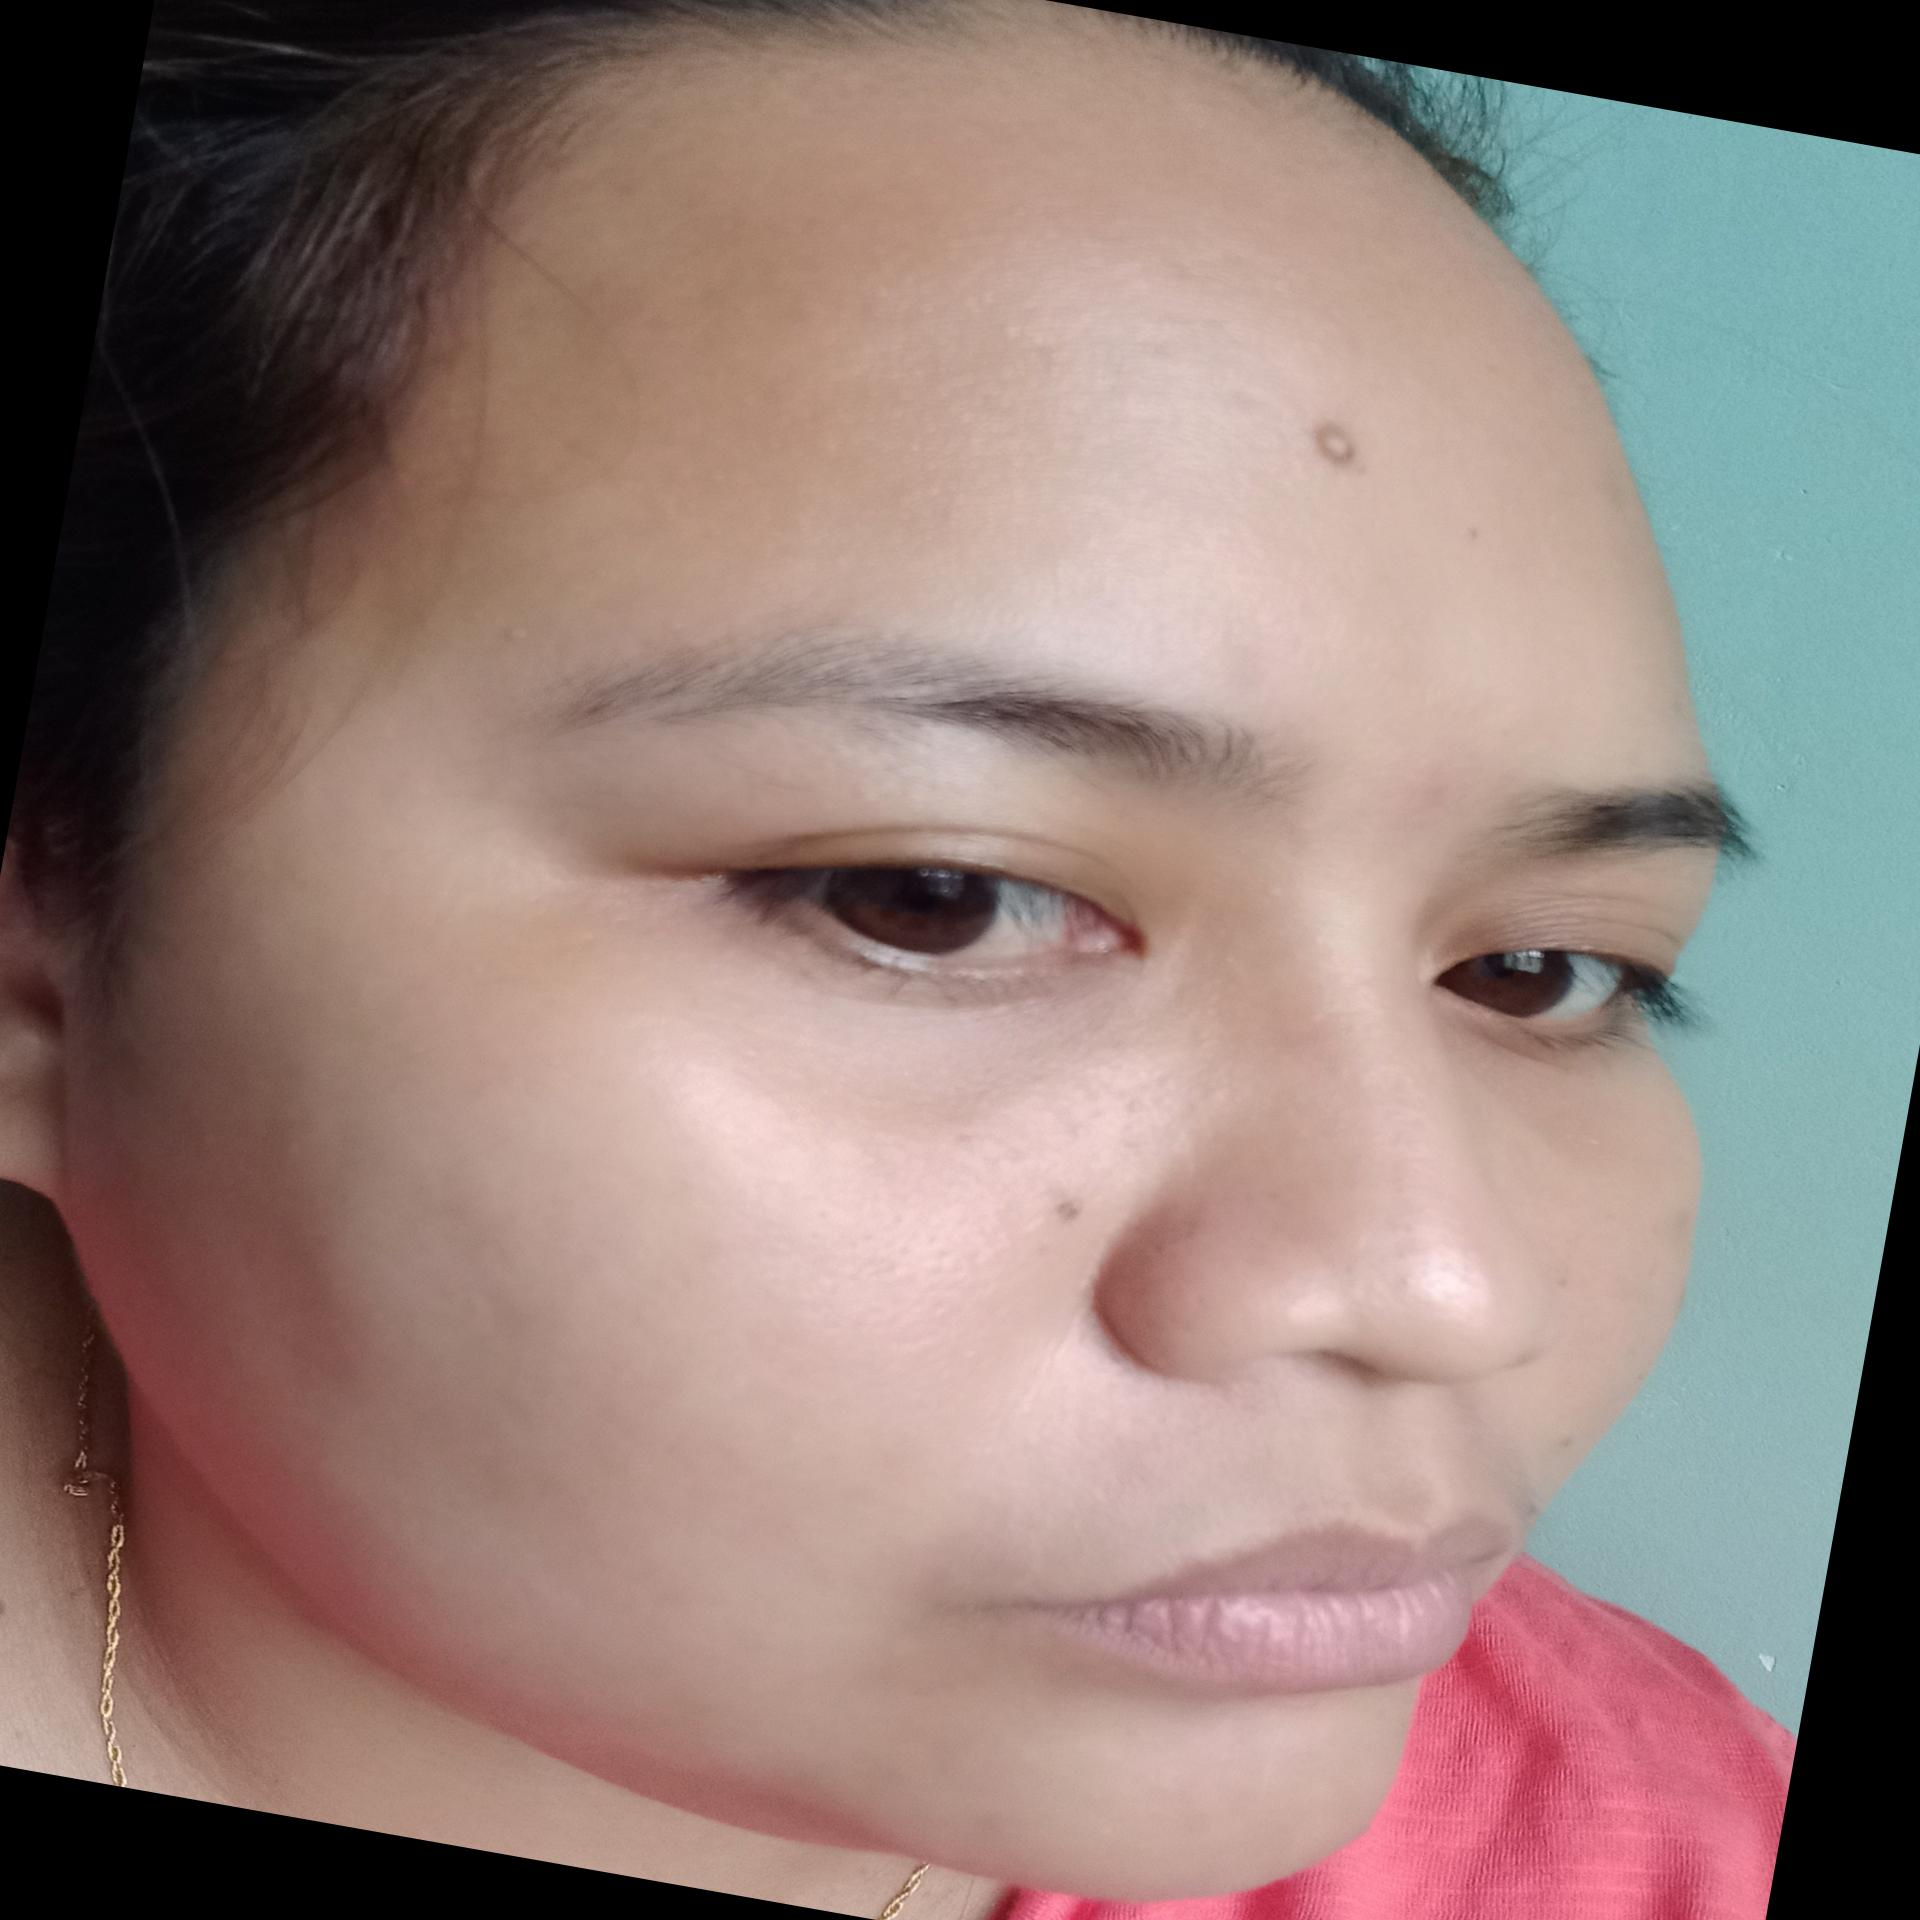Dark Circles: (484, 876, 1176, 1197), (1417, 1018, 1676, 1187)
